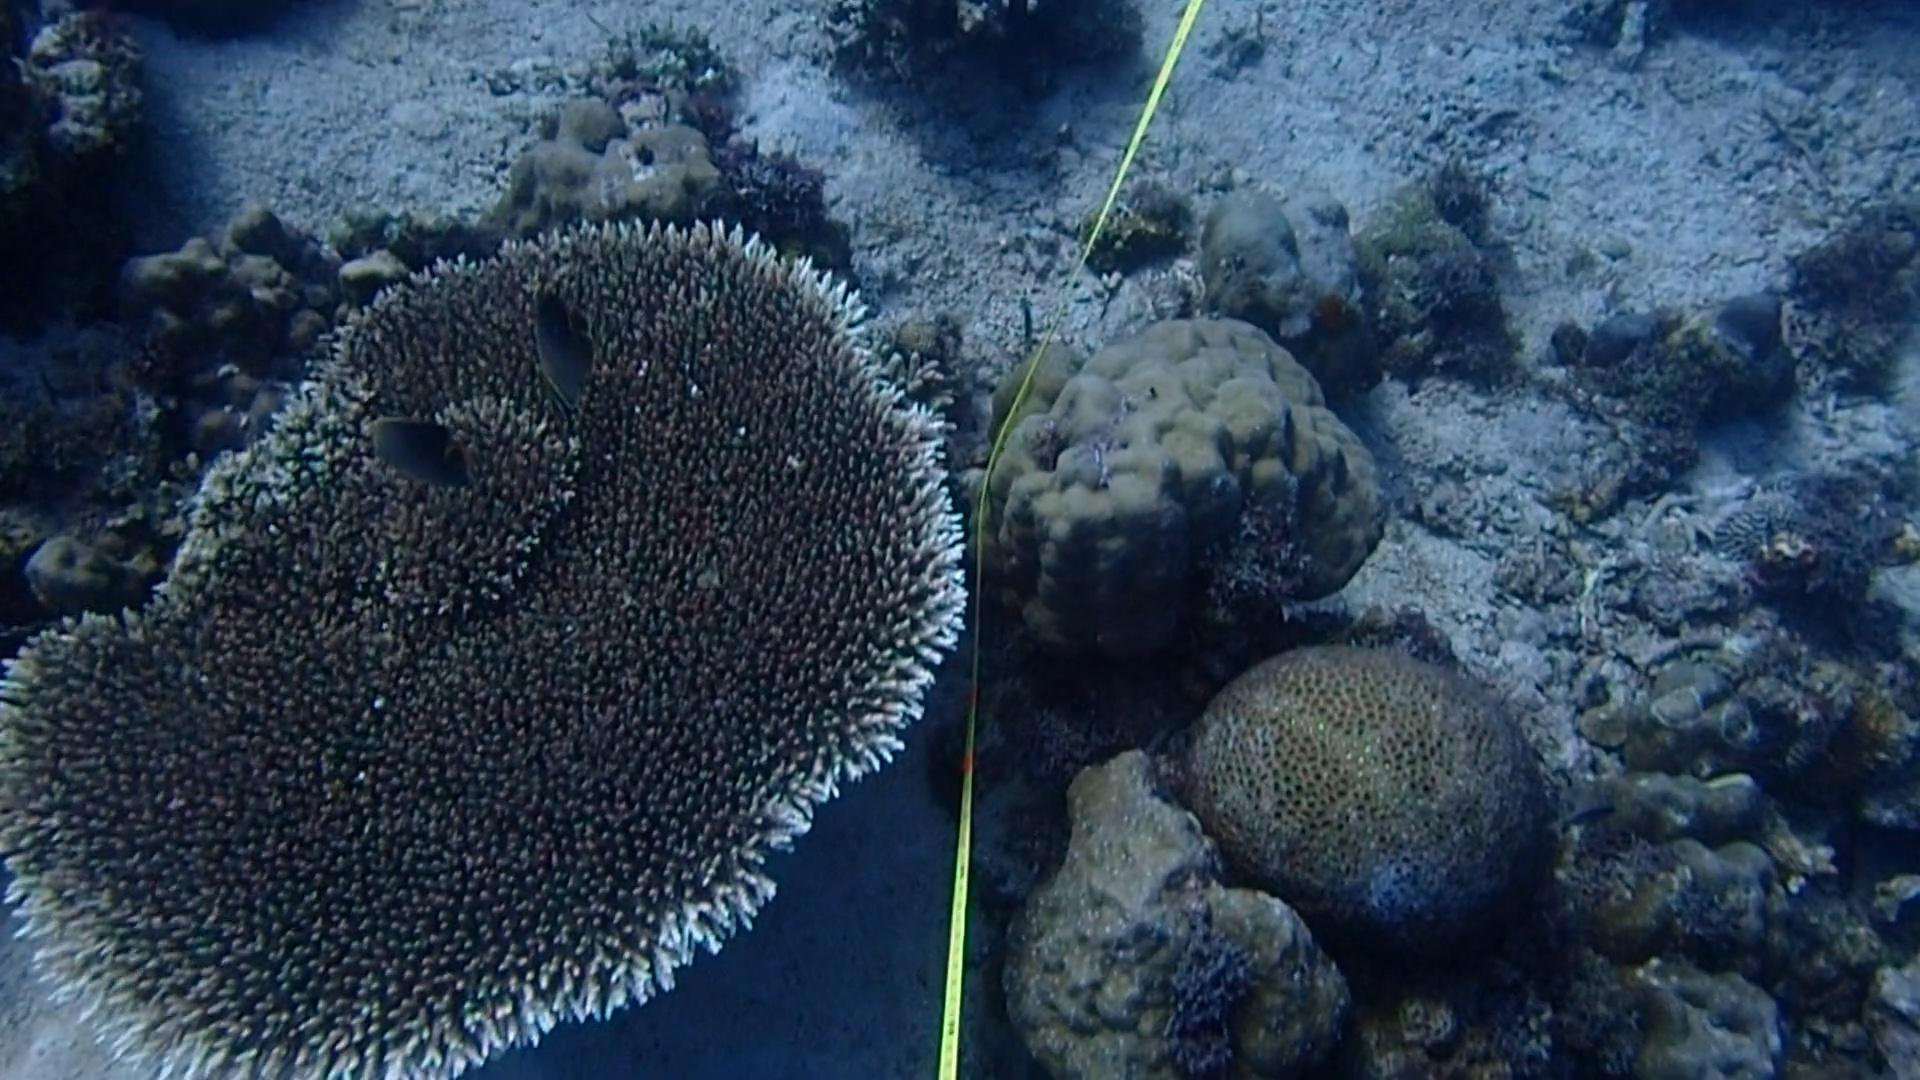Dark Blue Dory: (353, 409, 481, 504), (520, 285, 607, 414)
Light Fish: (1563, 793, 1625, 839)
